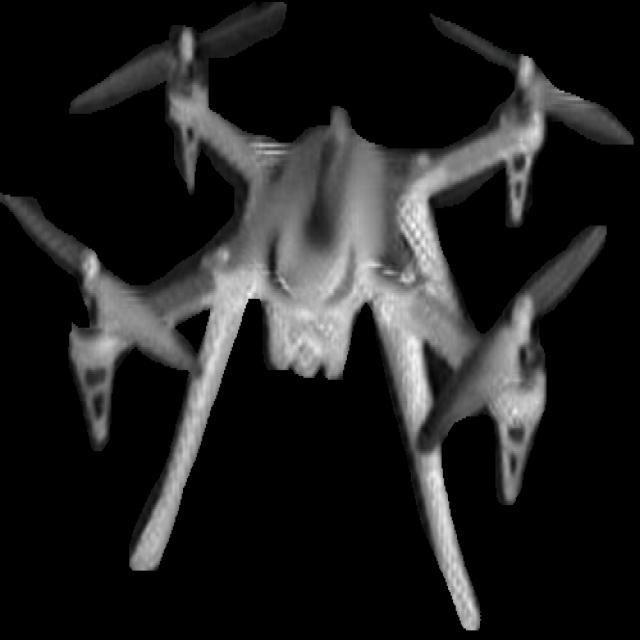drone: (15, 7, 631, 612)
